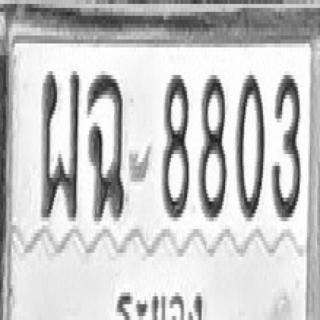A09: (87, 69, 125, 219)
A28: (40, 67, 80, 217)
N00: (235, 71, 264, 217)
N03: (271, 71, 300, 217)
N08: (198, 71, 226, 217), (161, 71, 188, 217)
